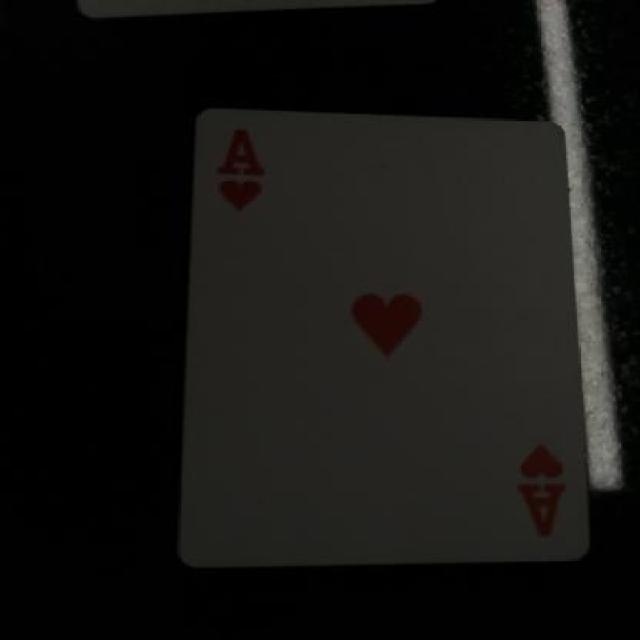AH: (498, 424, 580, 559), (198, 113, 284, 222)
